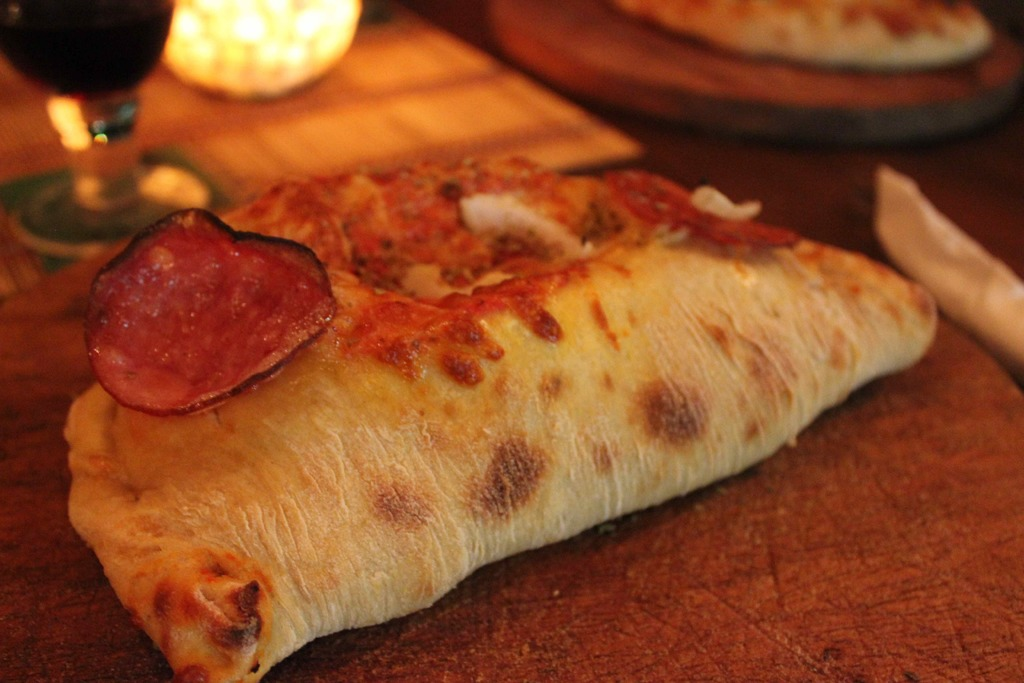Pizza: (42, 121, 926, 667), (608, 0, 1000, 66)
